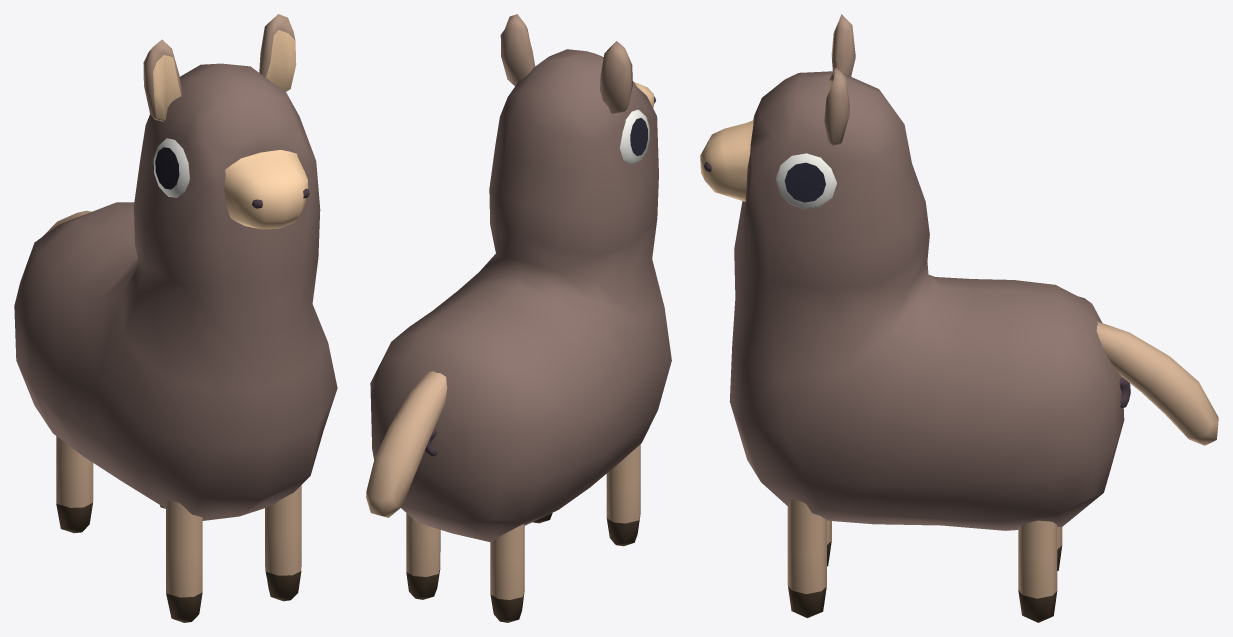
The model's file is Alpaca.glb.
3 views of the same model, side by side, from view 1: azimuth 30°, elevation 25°; view 2: azimuth 150°, elevation 25°; view 3: azimuth 270°, elevation 25° (orthographic). The views are drawn at different scales.
Visible parts, largest first — view 1: Alpaca; view 2: Alpaca; view 3: Alpaca.
Boxes of the visible parts, x1,y1,x2,y2 form: Alpaca: (14,14,337,622); Alpaca: (366,14,671,622); Alpaca: (700,14,1218,622).
Bounding box in the file's own units: 1.24 × 3.07 × 2.6.
Materials: 1 (1 with a texture image).
